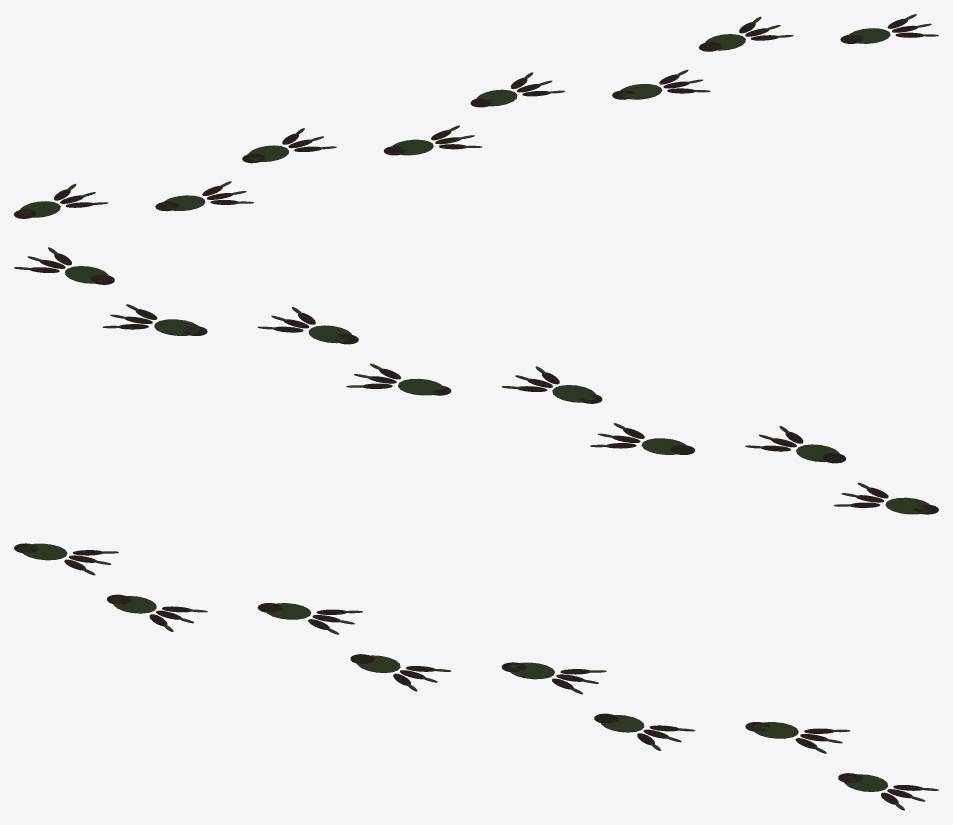
The model's file is SM_80s_ClawTracks.glb.
The picture shows the model from 3 angles, top to bottom: view 1: azimuth 30°, elevation 25°; view 2: azimuth 150°, elevation 25°; view 3: azimuth 330°, elevation 25°; orthographic projection. The views are drawn at different scales.
Visible parts, largest first — view 1: SM_80s_ClawTracks; view 2: SM_80s_ClawTracks; view 3: SM_80s_ClawTracks.
Part boxes in pixels (left/top/right/bottom): SM_80s_ClawTracks: left=14, top=14, right=938, bottom=218; SM_80s_ClawTracks: left=14, top=247, right=938, bottom=514; SM_80s_ClawTracks: left=14, top=543, right=938, bottom=810.
Bounding box in the file's own units: 9.68 × 0.006 × 1.21.
